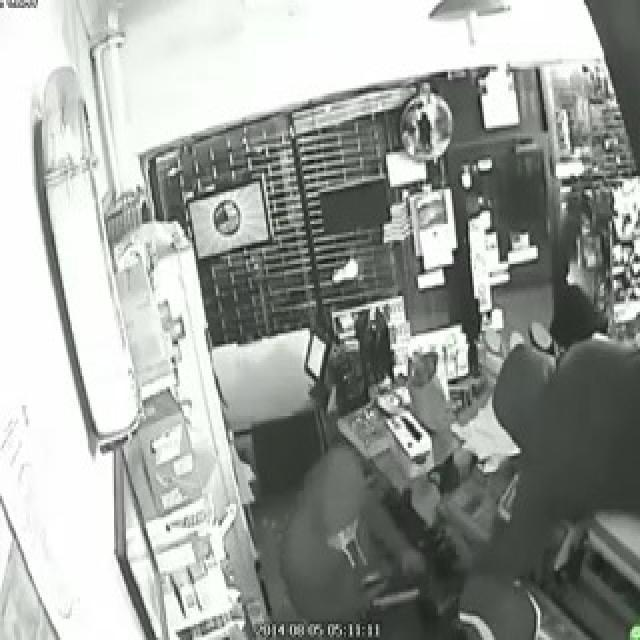Shoplifting: (242, 227, 640, 640)
